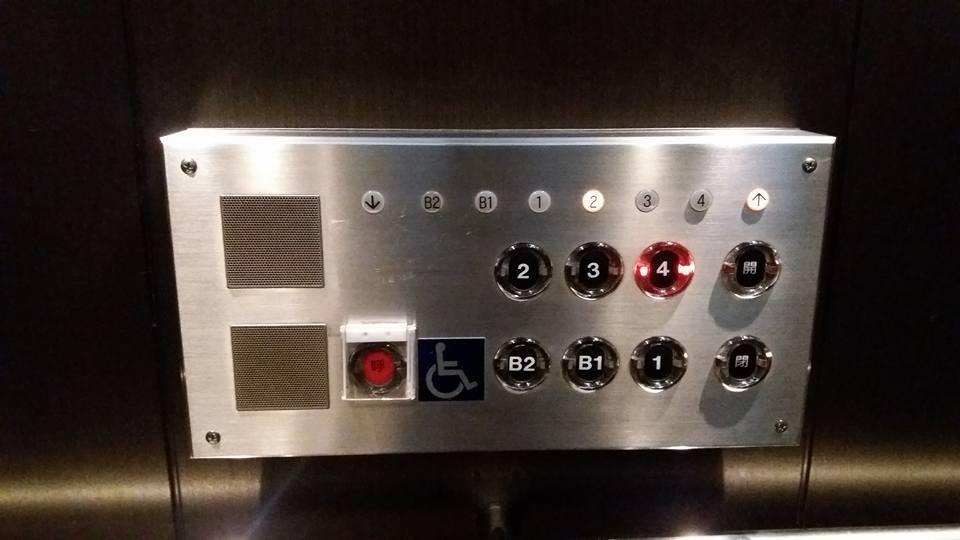1: (625, 332, 688, 394), (524, 187, 551, 214)
2: (489, 239, 554, 302), (578, 186, 605, 213)
3: (559, 238, 624, 301), (632, 185, 659, 212)
4: (630, 238, 695, 301), (686, 186, 713, 213)
B1: (556, 332, 619, 394), (470, 187, 497, 214)
B2: (490, 333, 553, 395), (416, 187, 443, 214)
call: (336, 318, 417, 403)
close: (710, 331, 775, 394)
down: (358, 187, 386, 215)
open: (718, 236, 783, 299)
unknown: (412, 334, 486, 404)
up: (744, 186, 771, 213)
